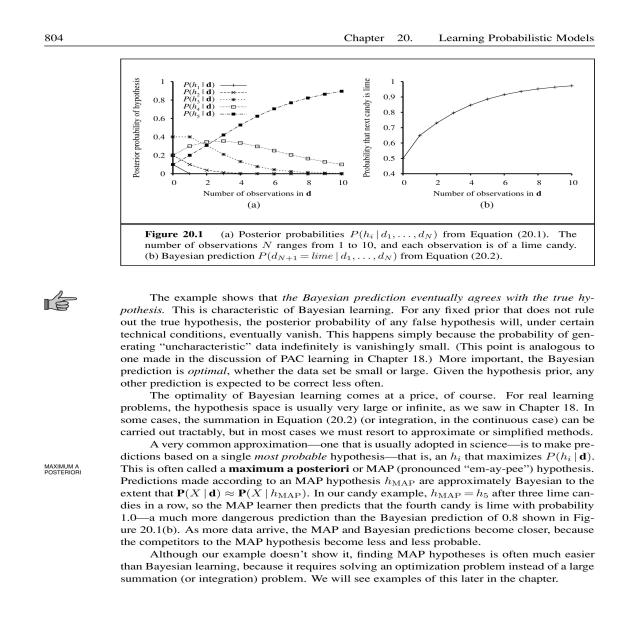diagram: (117, 58, 593, 267)
